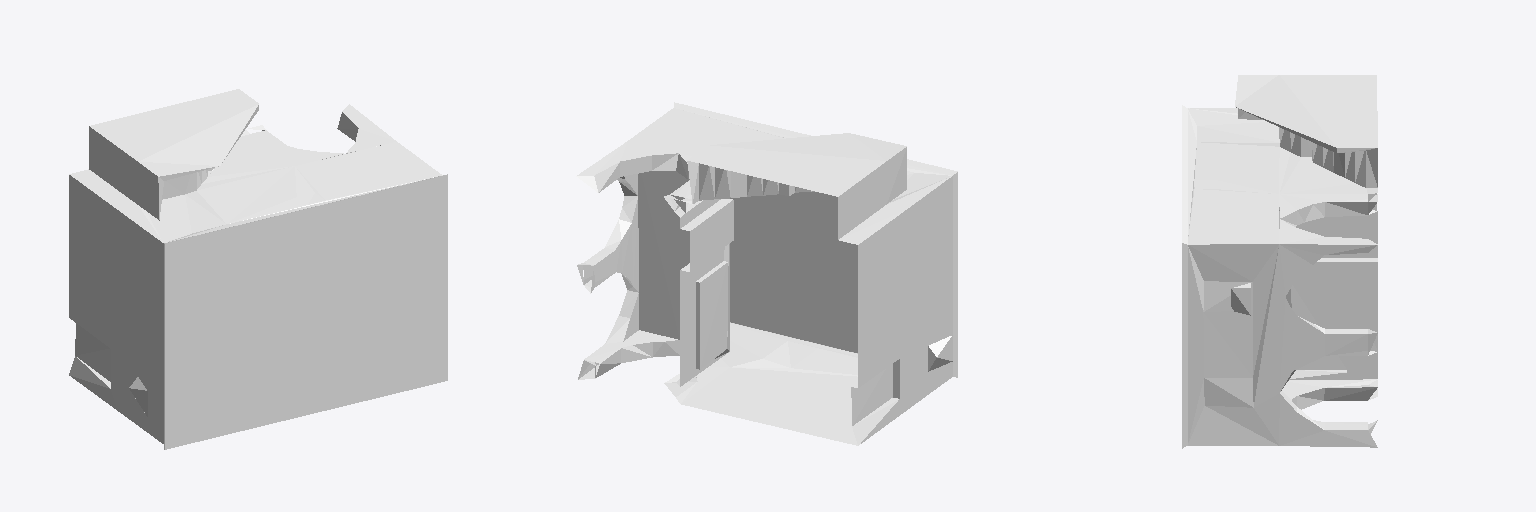
File: building6LOD.obj
3 views of the same model, side by side, from view 1: azimuth 30°, elevation 25°; view 2: azimuth 150°, elevation 25°; view 3: azimuth 270°, elevation 25° (orthographic).
Visible parts, largest first — view 1: building6.001_LOD1.001_LOD1; view 2: building6.001_LOD1.001_LOD1; view 3: building6.001_LOD1.001_LOD1.
Part boxes in pixels (x1,y1,x2,y2): building6.001_LOD1.001_LOD1: (69,89,447,449); building6.001_LOD1.001_LOD1: (576,102,957,445); building6.001_LOD1.001_LOD1: (1182,75,1377,448).
Bounding box in the file's own units: 9.38 × 7.49 × 5.4.